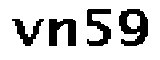5: (84, 7, 116, 51)
9: (117, 8, 150, 51)
n: (47, 15, 78, 50)
v: (8, 15, 45, 50)
